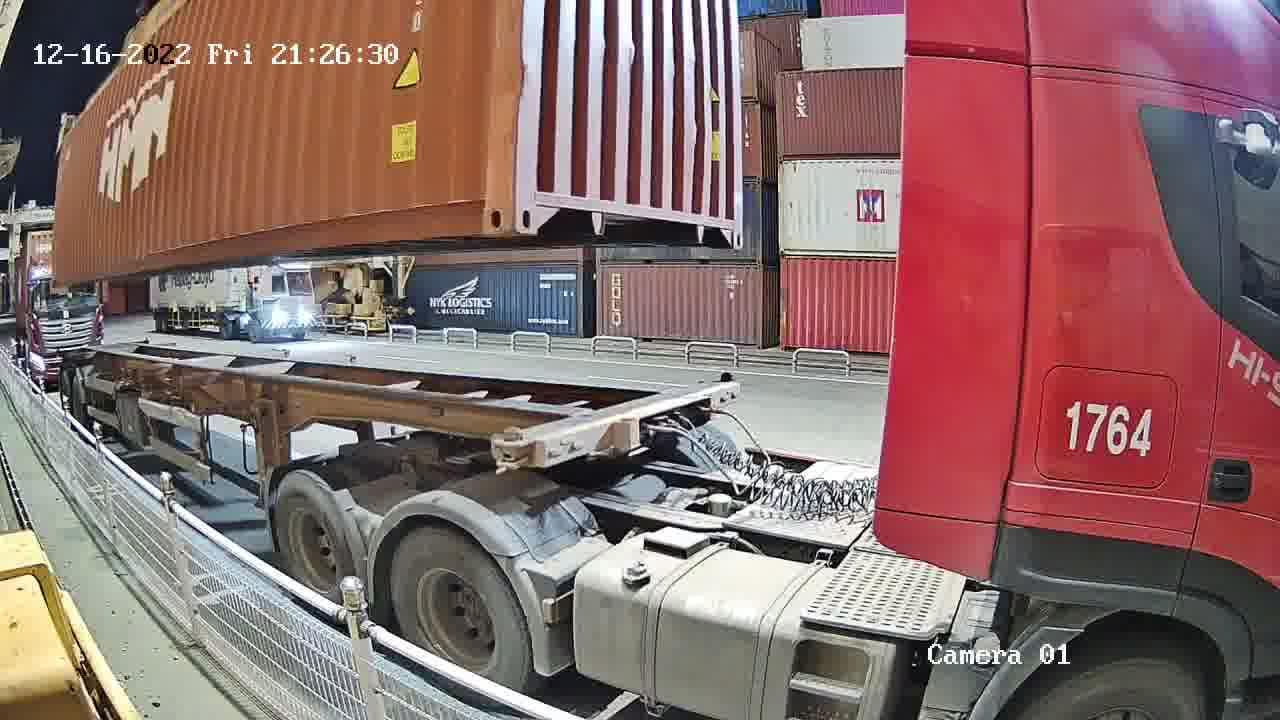Chassis: (492, 375, 739, 466)
Cone: (492, 455, 528, 479)
Container: (514, 163, 744, 249)
Hole_L: (516, 163, 554, 236)
Hole_R: (453, 163, 515, 235), (714, 203, 743, 250)
Tire: (389, 531, 532, 695), (275, 476, 357, 606)
